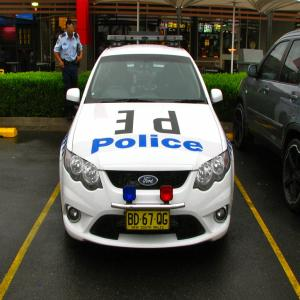Vehicle-registration-plate: (127, 210, 170, 231)
